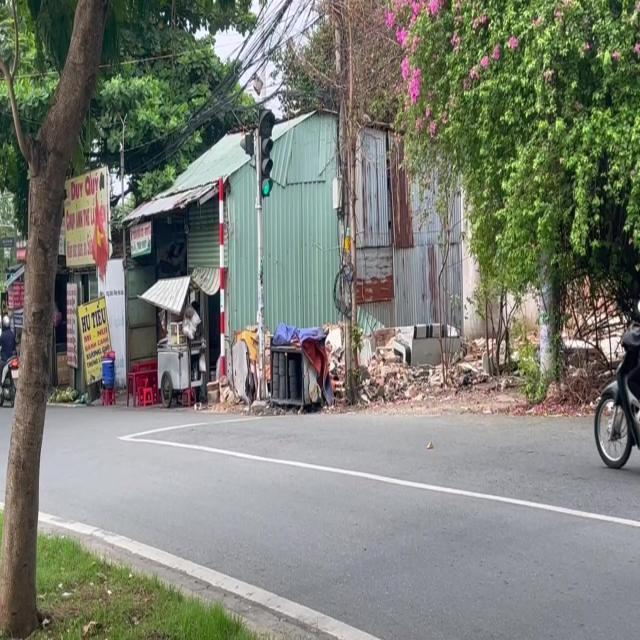green_light: (257, 108, 273, 195)
